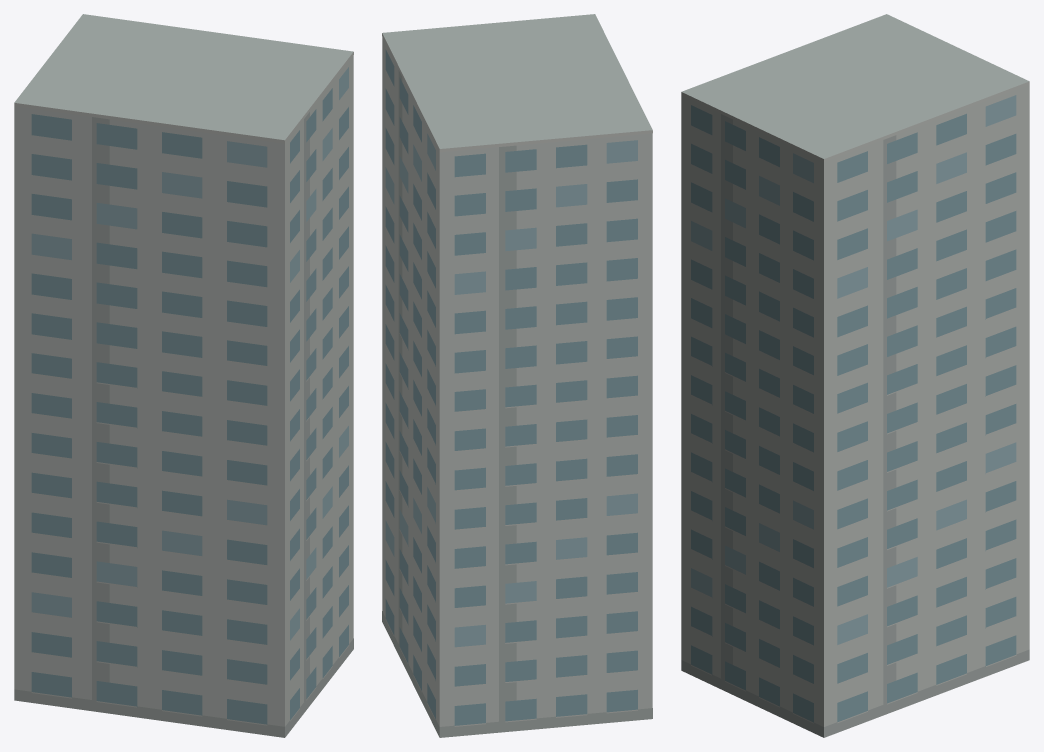
Rendered from residential-abf89c65-dd5b-4b19-b23e-ac00117045ff.glb.
3 renders of one model, left to right at view 1: azimuth 30°, elevation 25°; view 2: azimuth 150°, elevation 25°; view 3: azimuth 270°, elevation 25°, orthographic. The views are drawn at different scales.
Parts seen in each view (by area): view 1: residential-abf89c65-dd5b-4b19-b23e-ac00117045ff.tmp; view 2: residential-abf89c65-dd5b-4b19-b23e-ac00117045ff.tmp; view 3: residential-abf89c65-dd5b-4b19-b23e-ac00117045ff.tmp.
Part boxes in pixels (<box>): residential-abf89c65-dd5b-4b19-b23e-ac00117045ff.tmp: <box>14,14,353,737</box>; residential-abf89c65-dd5b-4b19-b23e-ac00117045ff.tmp: <box>382,14,652,737</box>; residential-abf89c65-dd5b-4b19-b23e-ac00117045ff.tmp: <box>681,14,1029,737</box>.
Bounding box in the file's own units: 23.13 × 43 × 23.46.
